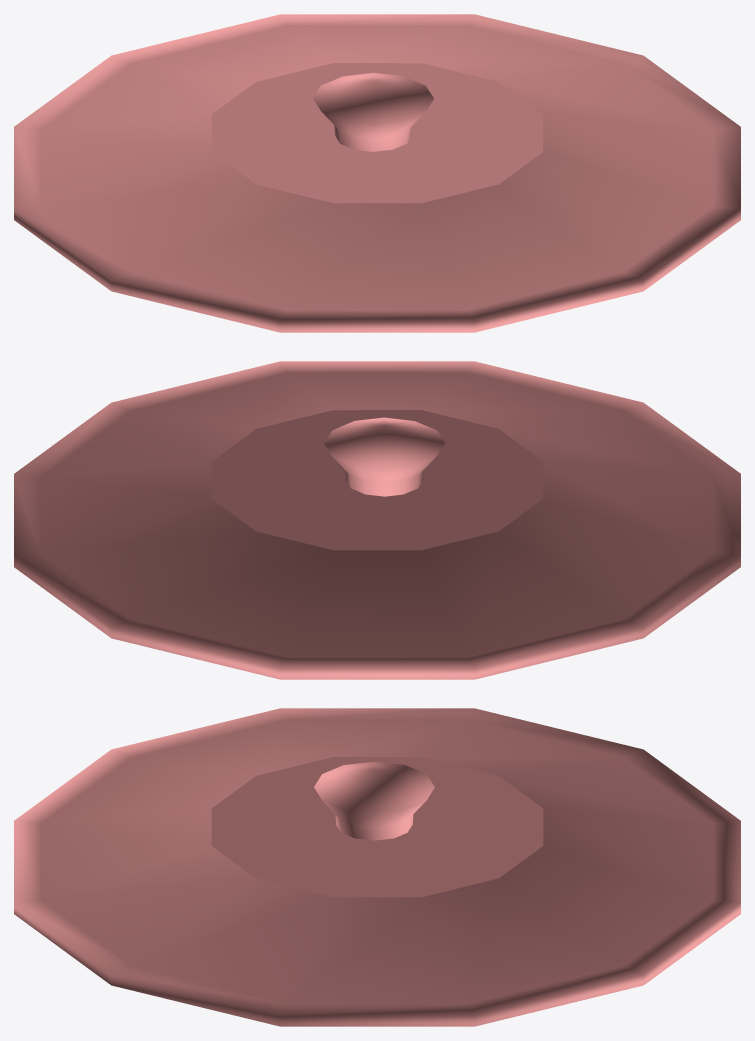
File: TFYK_saucepan_cap.FBX
3 views of the same model, one above another, from view 1: azimuth 30°, elevation 25°; view 2: azimuth 150°, elevation 25°; view 3: azimuth 270°, elevation 25° (orthographic).
Parts seen in each view (by area): view 1: TFYK_saucepan_cap; view 2: TFYK_saucepan_cap; view 3: TFYK_saucepan_cap.
Part boxes in pixels (x1,y1,x2,y2): TFYK_saucepan_cap: (14,14,740,332); TFYK_saucepan_cap: (14,361,740,679); TFYK_saucepan_cap: (14,708,740,1026).
Bounding box in the file's own units: 0.1912 × 0.0292 × 0.1912.
